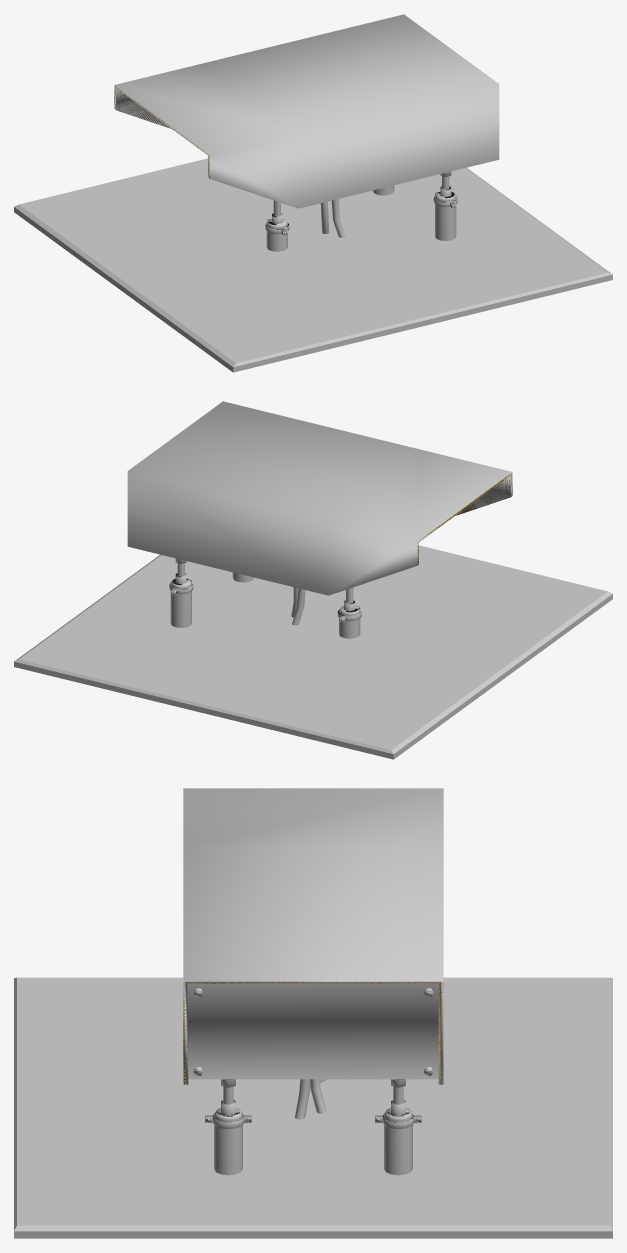
The model's file is anflug_gleitwinkel_feuer.fbx.
3 views of the same model, one above another, from view 1: azimuth 30°, elevation 25°; view 2: azimuth 150°, elevation 25°; view 3: azimuth 270°, elevation 25° (orthographic). The views are drawn at different scales.
Parts seen in each view (by area): view 1: rot_an; view 2: rot_an, aus; view 3: rot_an, aus.
Part boxes in pixels (box(x1,y1,x2,y2)): rot_an: box(14, 14, 612, 372); rot_an: box(14, 401, 612, 759); aus: box(171, 473, 512, 615); rot_an: box(14, 788, 612, 1238); aus: box(183, 981, 443, 1123).
Size of the model in its own units: 120 by 49.26 by 120.
